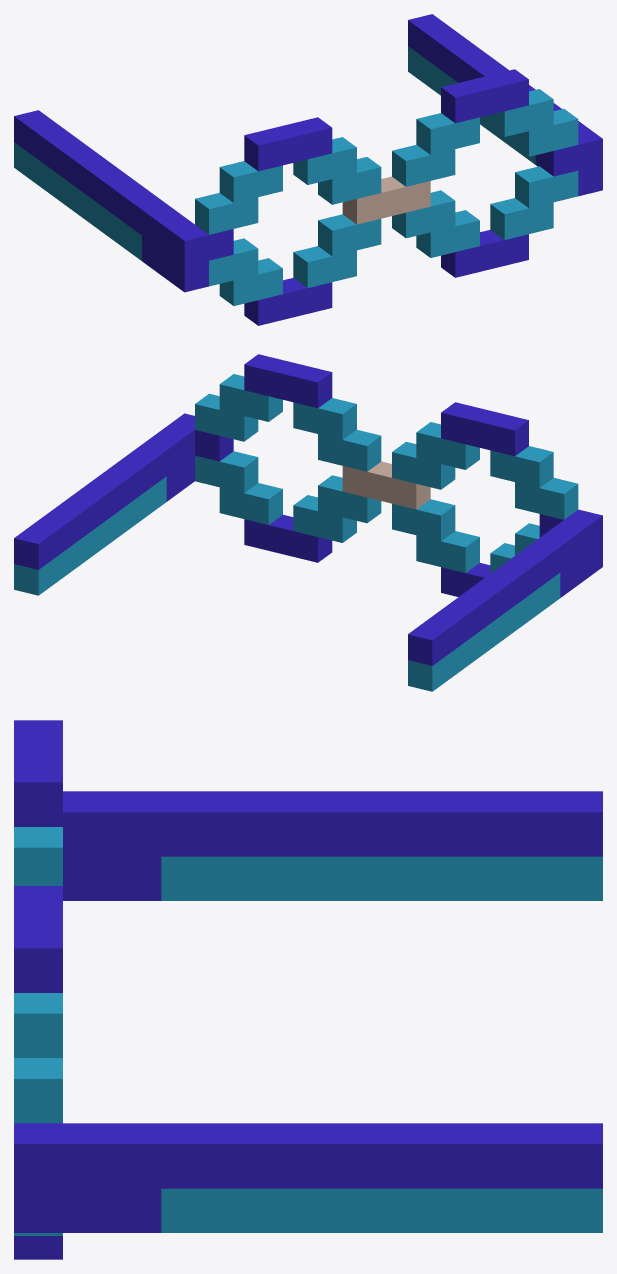
3 renders of one model, top to bottom at view 1: azimuth 30°, elevation 25°; view 2: azimuth 150°, elevation 25°; view 3: azimuth 270°, elevation 25°, orthographic. The views are drawn at different scales.
Parts seen in each view (by area): view 1: Null_3, Null_4, Null_2, Null_5, Null_1, Null, Null_6; view 2: Null_3, Null_4, Null_1, Null_2, Null, Null_5, Null_6; view 3: Null_3, Null_4, Null, Null_1, Null_2, Null_6.
Part boxes in pixels (box(x1,y1,x2,y2)): Null_3: box(14, 14, 602, 266); Null_4: box(14, 46, 602, 292); Null_2: box(195, 109, 578, 234); Null_5: box(219, 198, 553, 305); Null_1: box(219, 89, 553, 202); Null: box(244, 69, 528, 171); Null_6: box(244, 230, 528, 325); Null_3: box(14, 413, 602, 665); Null_4: box(14, 451, 602, 691); Null_1: box(219, 374, 553, 487); Null_2: box(195, 393, 578, 519); Null: box(244, 354, 528, 456); Null_5: box(219, 483, 514, 573); Null_6: box(244, 514, 490, 596); Null_3: box(14, 791, 602, 1188); Null_4: box(14, 856, 602, 1232); Null: box(14, 720, 62, 992); Null_1: box(14, 827, 62, 1057); Null_2: box(14, 1058, 62, 1123); Null_6: box(14, 1236, 62, 1259).
Bounding box in the file's own units: 994 × 409 × 702.
